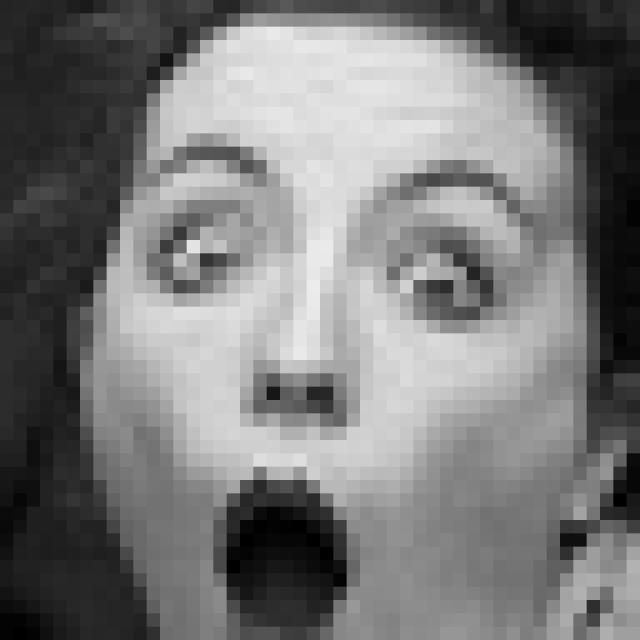surprise: (107, 121, 554, 640)
